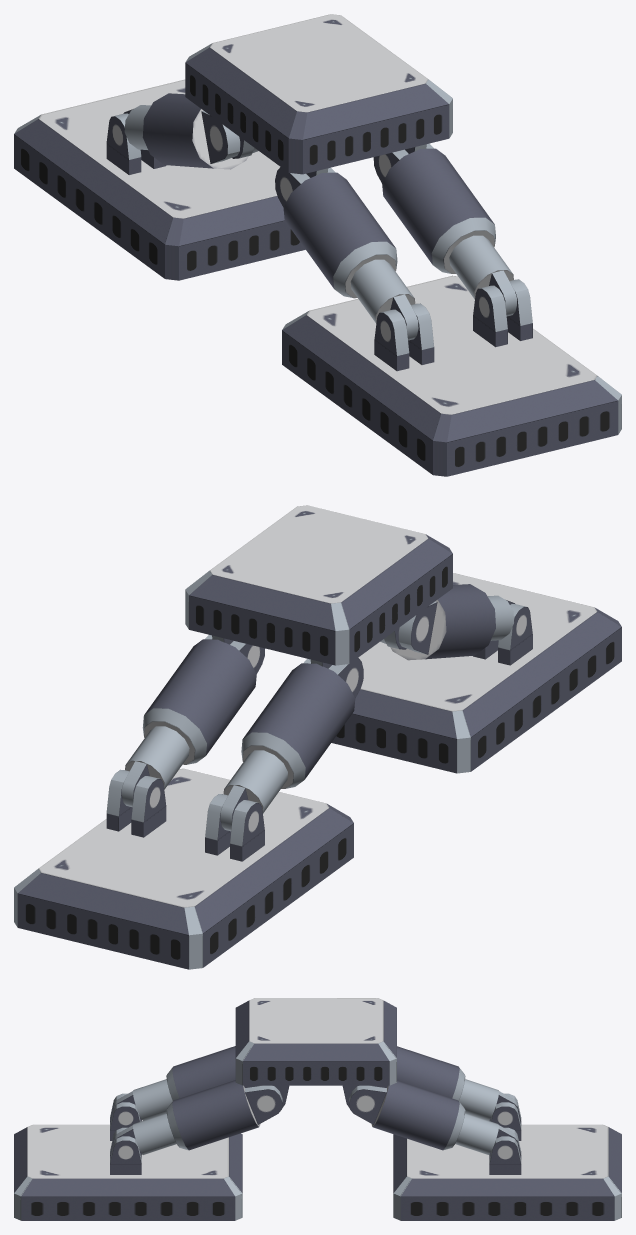
Rendered from Landing_Gear_01.FBX.
The picture shows the model from 3 angles, top to bottom: view 1: azimuth 30°, elevation 25°; view 2: azimuth 150°, elevation 25°; view 3: azimuth 270°, elevation 25°; orthographic projection. The views are drawn at different scales.
Parts seen in each view (by area): view 1: Base_B, Base_A, Landing_Gear_01, Leg_B, Leg_A; view 2: Base_A, Base_B, Landing_Gear_01, Leg_A, Leg_B; view 3: Base_A, Base_B, Landing_Gear_01, Leg_B, Leg_A.
Part boxes in pixels (x1,y1,x2,y2): Base_B: [282, 275, 621, 476]; Base_A: [14, 79, 305, 280]; Landing_Gear_01: [185, 14, 452, 177]; Leg_B: [275, 143, 516, 340]; Leg_A: [123, 93, 258, 169]; Base_A: [14, 768, 353, 969]; Base_B: [331, 573, 621, 773]; Landing_Gear_01: [185, 505, 452, 668]; Leg_A: [121, 635, 363, 831]; Leg_B: [380, 584, 514, 660]; Base_A: [393, 1093, 621, 1220]; Base_B: [14, 1093, 242, 1220]; Landing_Gear_01: [235, 998, 396, 1108]; Leg_B: [114, 1046, 282, 1154]; Leg_A: [349, 1046, 517, 1154].
Size of the model in its own units: 2.88 by 3.44 by 11.31.
